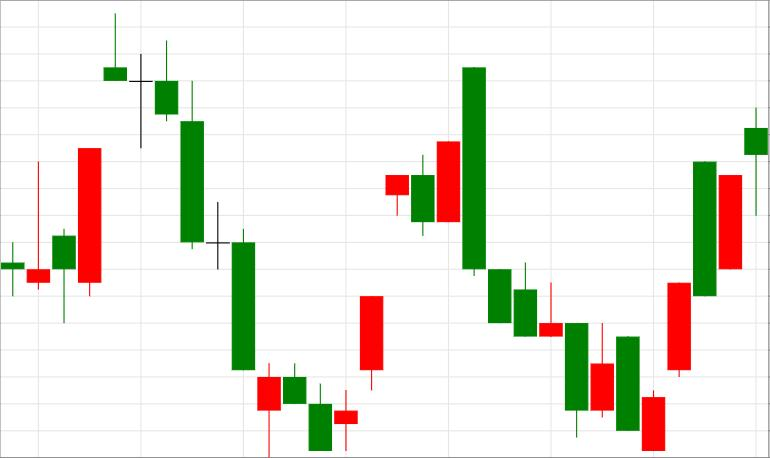bearish_engulfing_fall: (334, 68, 486, 451)
hanging_man_fall: (641, 108, 768, 451)
